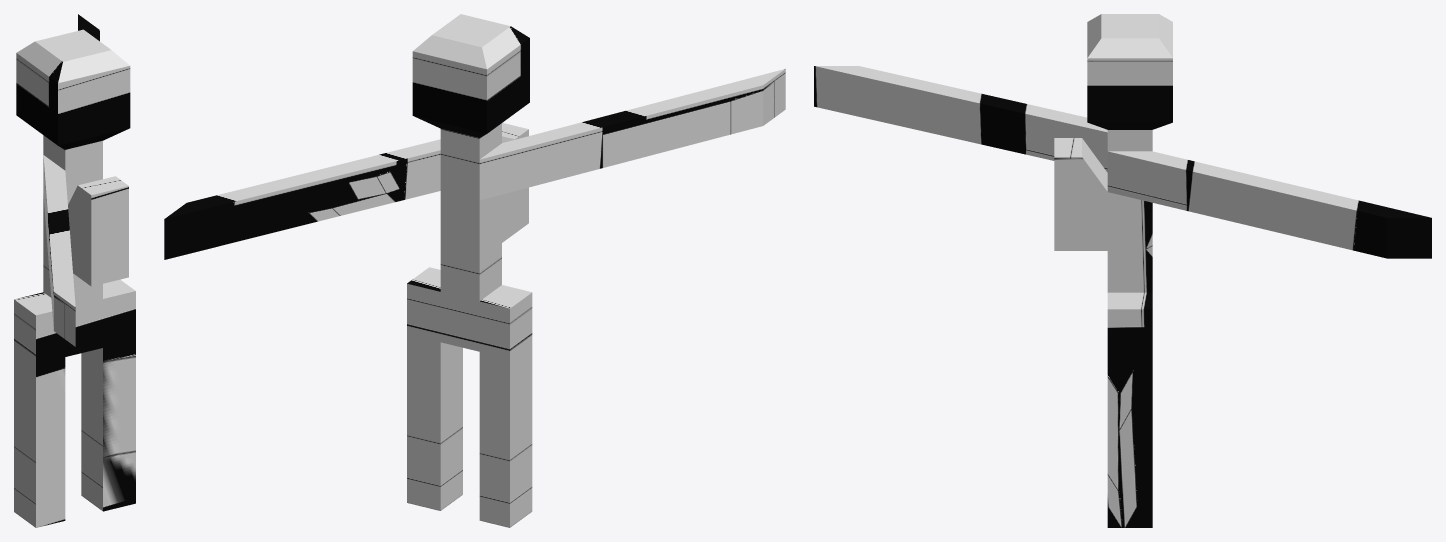
File: ConvexHullTester.dae
3 renders of one model, left to right at view 1: azimuth 30°, elevation 25°; view 2: azimuth 150°, elevation 25°; view 3: azimuth 270°, elevation 25°, orthographic. The views are drawn at different scales.
Parts seen in each view (by area): view 1: Cube; view 2: Cube; view 3: Cube.
Part boxes in pixels (x1=…): Cube: x1=14, y1=14, x2=135, y2=527; Cube: x1=164, y1=14, x2=785, y2=527; Cube: x1=814, y1=14, x2=1431, y2=527.
Size of the model in its own units: 16 by 27.5 by 23.37.
1 material, 1 textured.
